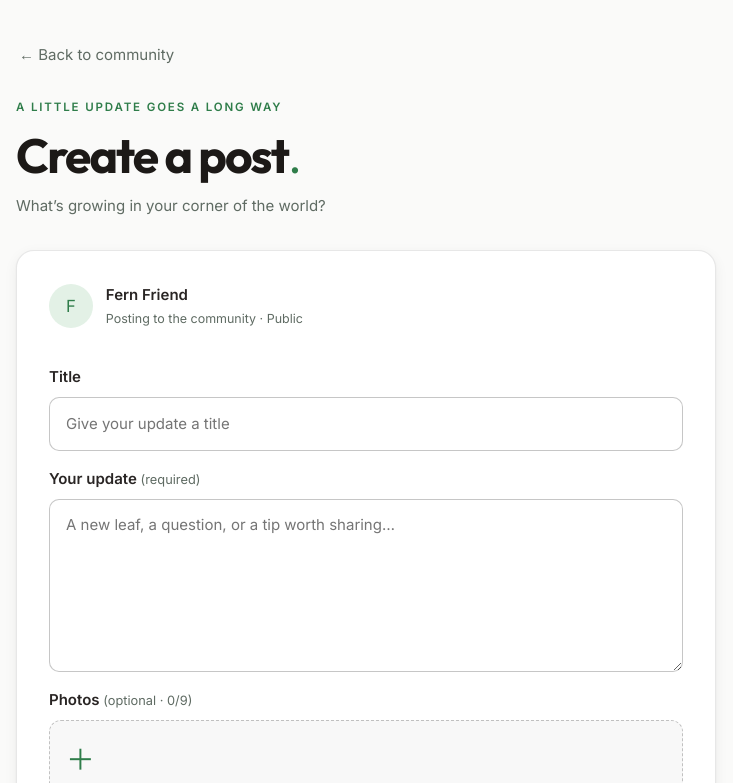
Test: preserves the draft and enables retry when publishing fails
In the field labelled "Title": (366, 424) left=49, top=397, right=683, bottom=451, type "Draft"
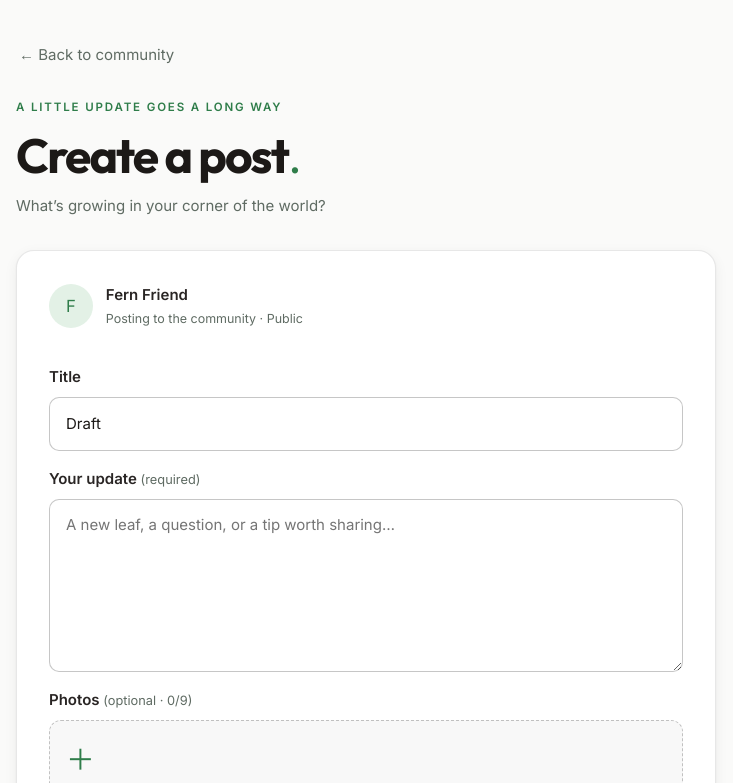
In the text box labelled "Your update (required)": (366, 585) left=49, top=498, right=683, bottom=672, type "Keep my draft"
(page scrolled)
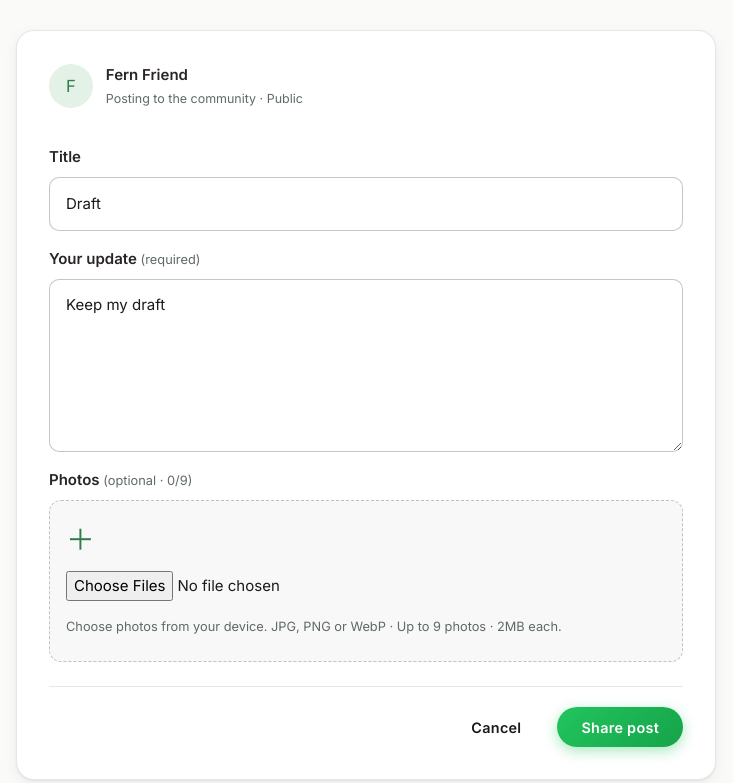
Submit the form
(page scrolled)
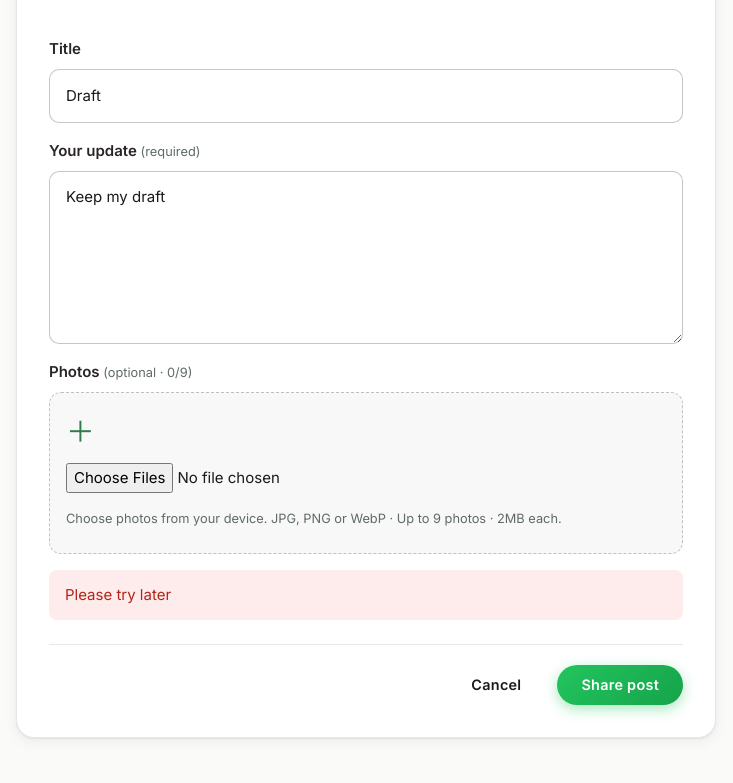
expect the submit button is enabled: met, box left=557, top=665, right=683, bottom=705
expect the message "Please try later" is shown: met, box left=49, top=570, right=683, bottom=620
